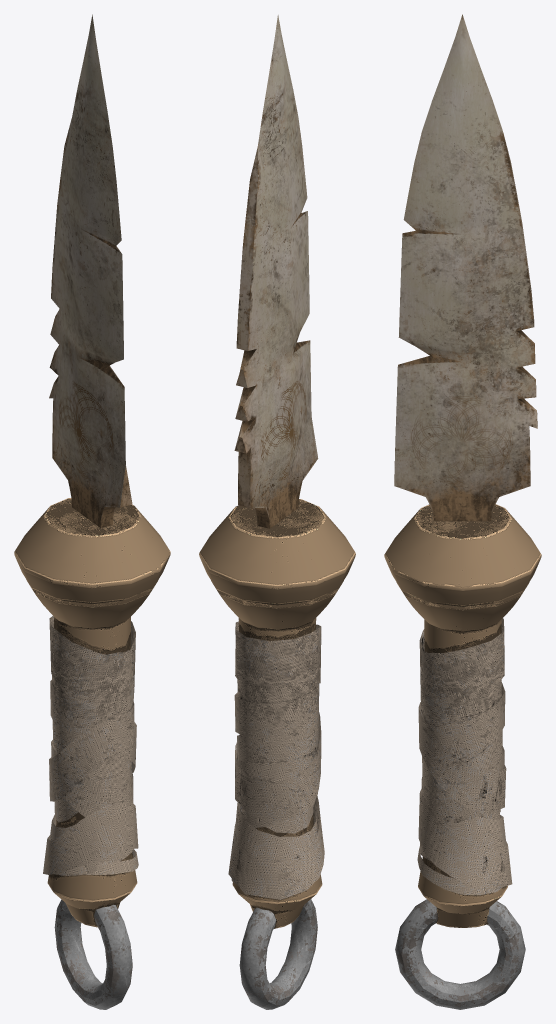
Rendered from Knife_Textured.fbx.
3 views of the same model, side by side, from view 1: azimuth 30°, elevation 25°; view 2: azimuth 150°, elevation 25°; view 3: azimuth 270°, elevation 25° (orthographic).
Parts seen in each view (by area): view 1: Plane, Torus.010, Cylinder, Torus.011; view 2: Plane, Torus.010, Cylinder, Torus.011; view 3: Plane, Torus.010, Cylinder, Torus.011.
Boxes of the visible parts, <box> form: Plane: <box>49,14,132,527</box>; Torus.010: <box>43,616,138,875</box>; Cylinder: <box>14,498,170,927</box>; Torus.011: <box>54,899,132,1009</box>; Plane: <box>234,15,318,528</box>; Torus.010: <box>228,621,324,899</box>; Cylinder: <box>199,499,355,928</box>; Torus.011: <box>239,899,317,1009</box>; Plane: <box>394,14,537,521</box>; Torus.010: <box>417,618,512,895</box>; Cylinder: <box>384,504,541,927</box>; Torus.011: <box>395,899,525,1009</box>.
Bounding box in the file's own units: 63.87 × 446 × 63.87.
